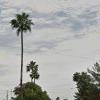Palm tree: (11, 5, 45, 87)
